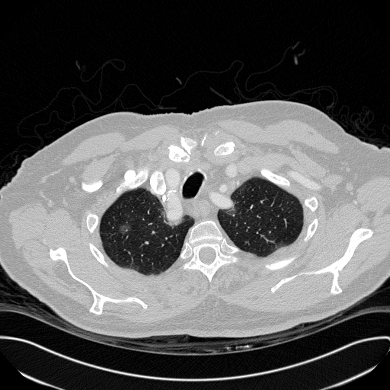nodule: (118, 222, 130, 234)
